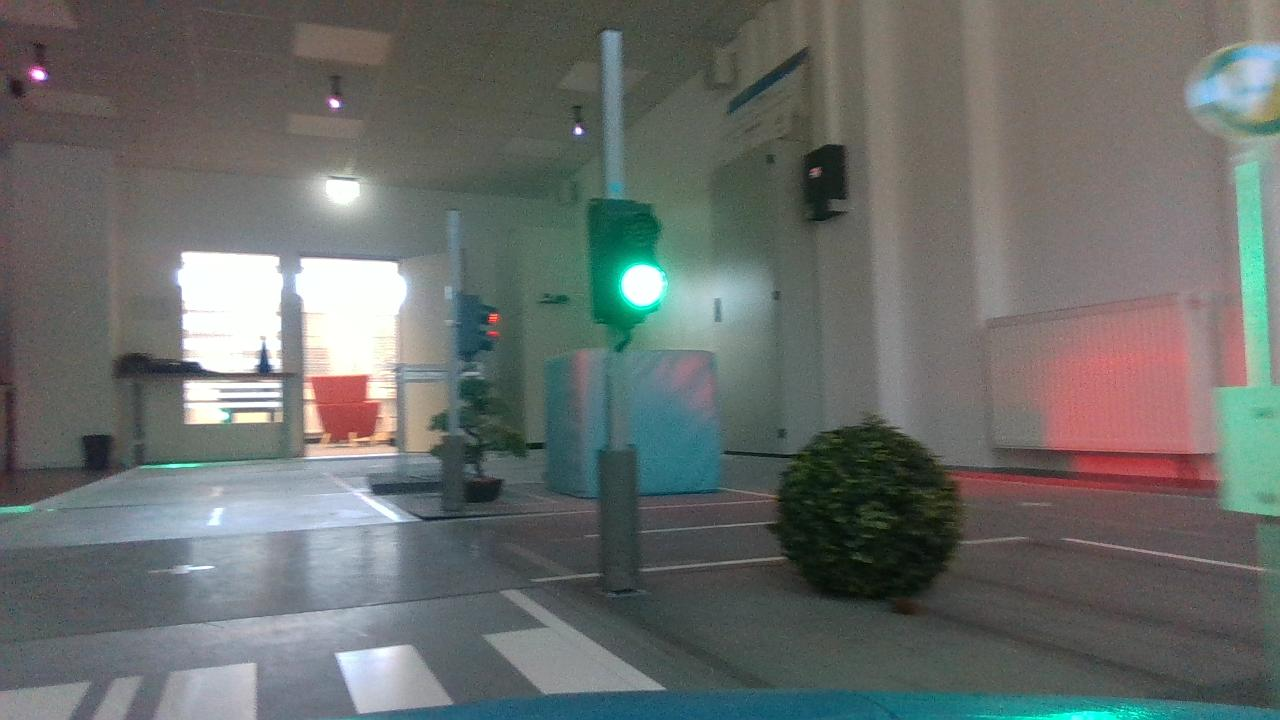traffic_light_green: (581, 194, 674, 334)
